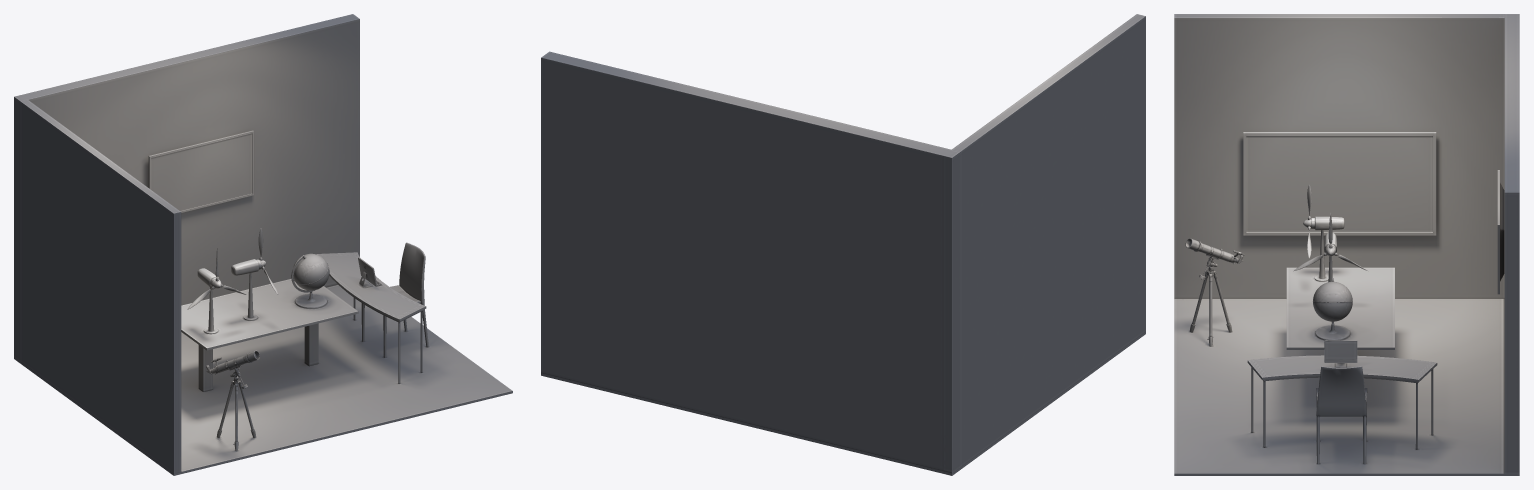
The model's file is edulab.glb.
3 views of the same model, side by side, from view 1: azimuth 30°, elevation 25°; view 2: azimuth 150°, elevation 25°; view 3: azimuth 270°, elevation 25° (orthographic). The views are drawn at different scales.
Parts seen in each view (by area): view 1: Box014; view 2: Box014; view 3: Box014.
Part boxes in pixels (left/top/right/bottom): Box014: left=14, top=14, right=512, bottom=475; Box014: left=541, top=14, right=1145, bottom=475; Box014: left=1174, top=14, right=1519, bottom=475.
Size of the model in its own units: 67.97 by 50.24 by 55.49.
Materials: 1 (1 with a texture image).
